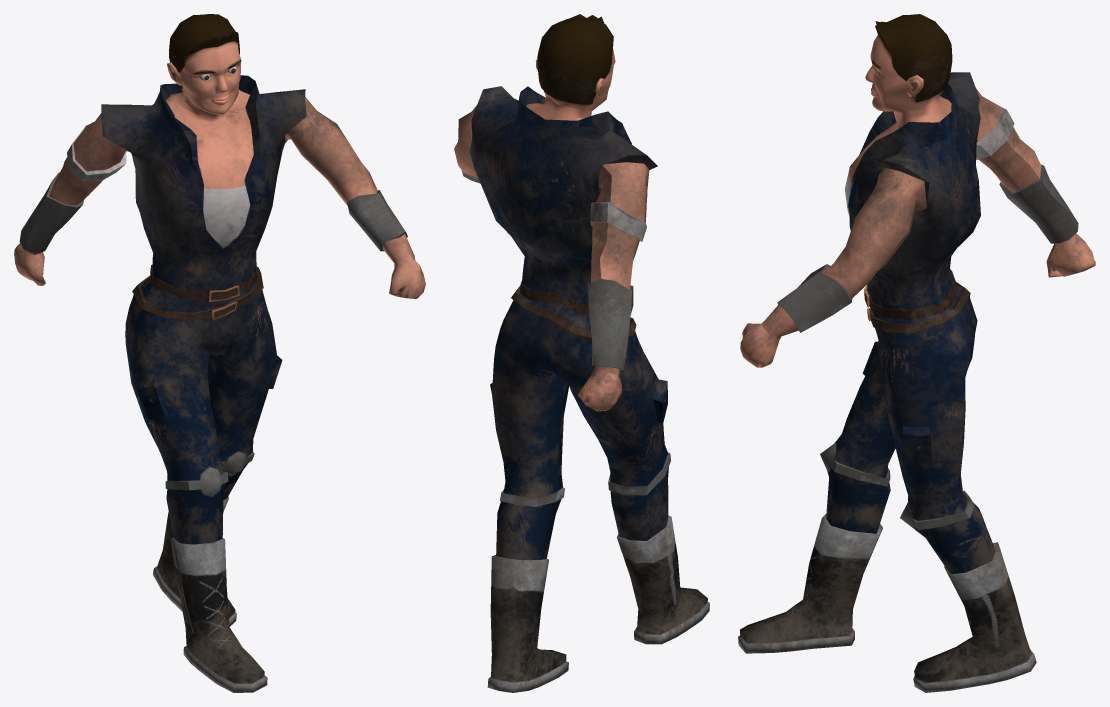
Rendered from Anim_andar_jugador.0024.obj.
3 renders of one model, left to right at view 1: azimuth 30°, elevation 25°; view 2: azimuth 150°, elevation 25°; view 3: azimuth 270°, elevation 25°, orthographic. The views are drawn at different scales.
Visible parts, largest first — view 1: Anim_andar_jugador; view 2: Anim_andar_jugador; view 3: Anim_andar_jugador.
Part boxes in pixels (bbox=[...]): Anim_andar_jugador: bbox=[14, 14, 425, 692]; Anim_andar_jugador: bbox=[454, 14, 709, 692]; Anim_andar_jugador: bbox=[738, 14, 1095, 692].
Size of the model in its own units: 4.27 by 9.64 by 4.76.
2 materials, 2 textured.
